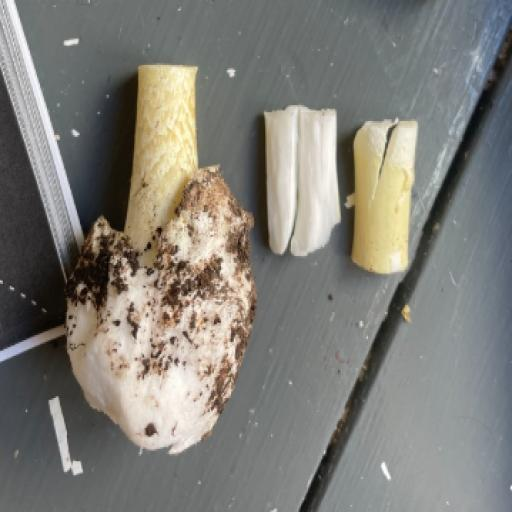Death Cap: (28, 53, 325, 467)
